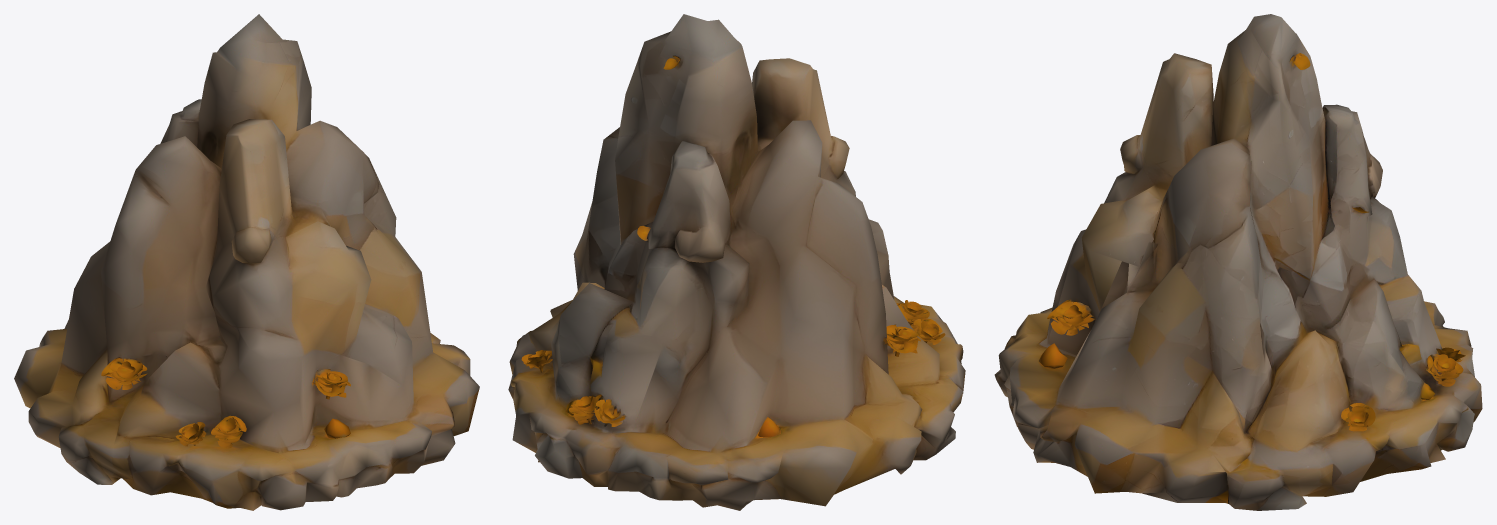
File: perimeter-mountain.glb
The picture shows the model from 3 angles, left to right: view 1: azimuth 30°, elevation 25°; view 2: azimuth 150°, elevation 25°; view 3: azimuth 270°, elevation 25°; orthographic projection. The views are drawn at different scales.
Visible parts, largest first — view 1: tripo_node_478b14c6-dc9d-4447-b83b-bad671541837; view 2: tripo_node_478b14c6-dc9d-4447-b83b-bad671541837; view 3: tripo_node_478b14c6-dc9d-4447-b83b-bad671541837.
Boxes of the visible parts, x1,y1,x2,y2 form: tripo_node_478b14c6-dc9d-4447-b83b-bad671541837: (14,14,479,510); tripo_node_478b14c6-dc9d-4447-b83b-bad671541837: (508,14,965,510); tripo_node_478b14c6-dc9d-4447-b83b-bad671541837: (994,14,1482,510).
Bounding box in the file's own units: 0.9878 × 0.939 × 0.9995.
Materials: 1 (1 with a texture image).
